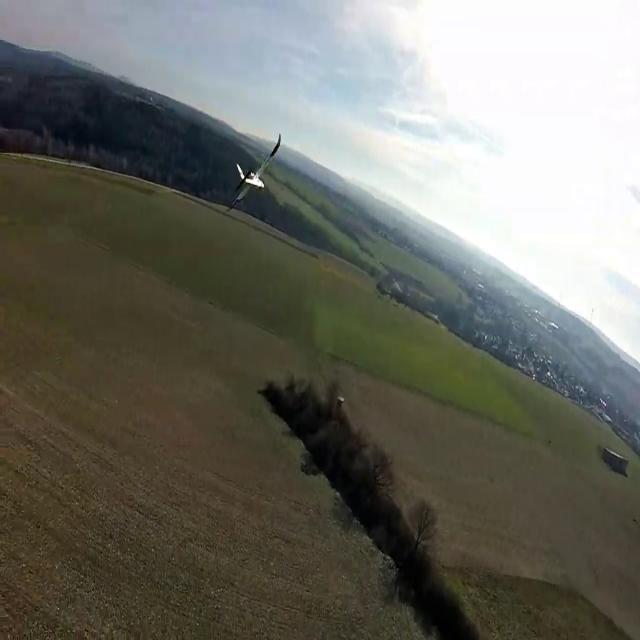iha: (224, 164, 281, 183)
